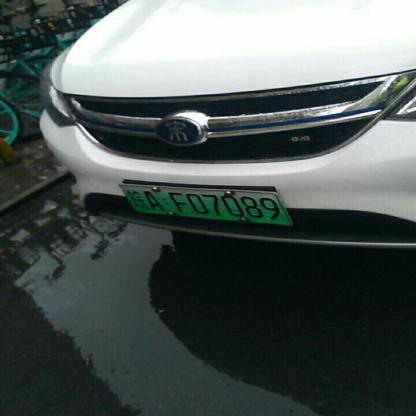lp: (121, 185, 293, 223)
